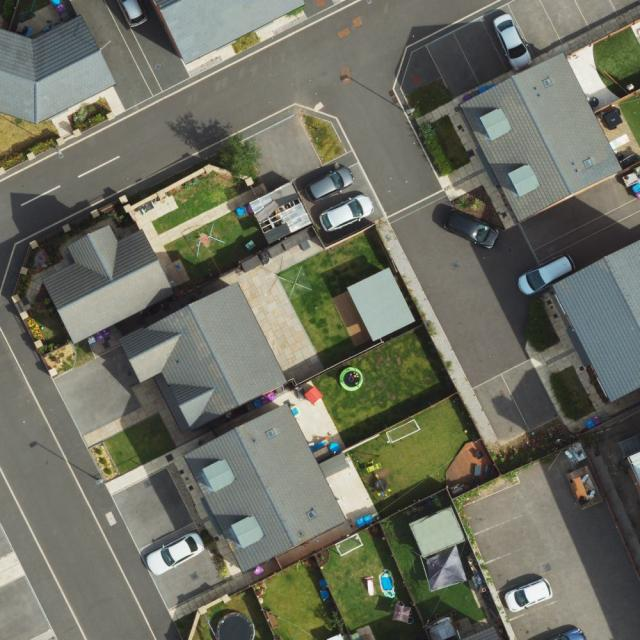roof: (458, 51, 624, 226), (184, 400, 347, 572), (121, 279, 287, 433), (40, 225, 176, 343), (552, 241, 640, 402), (1, 13, 117, 125), (151, 0, 305, 66)
skylight: (303, 506, 320, 522), (542, 75, 557, 90), (264, 426, 279, 440), (579, 157, 596, 169)
